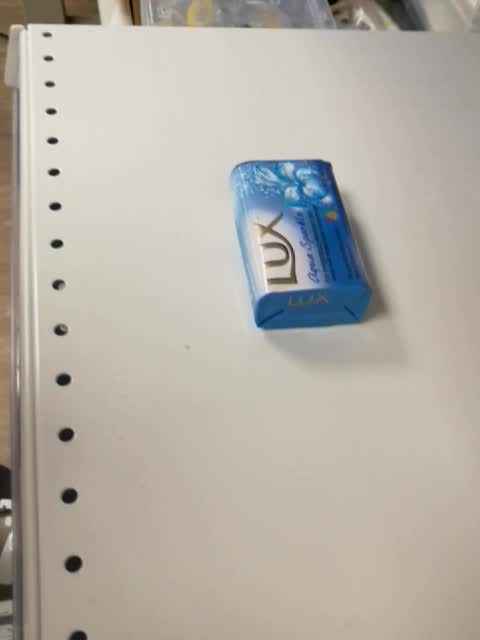soap: (227, 159, 374, 332)
